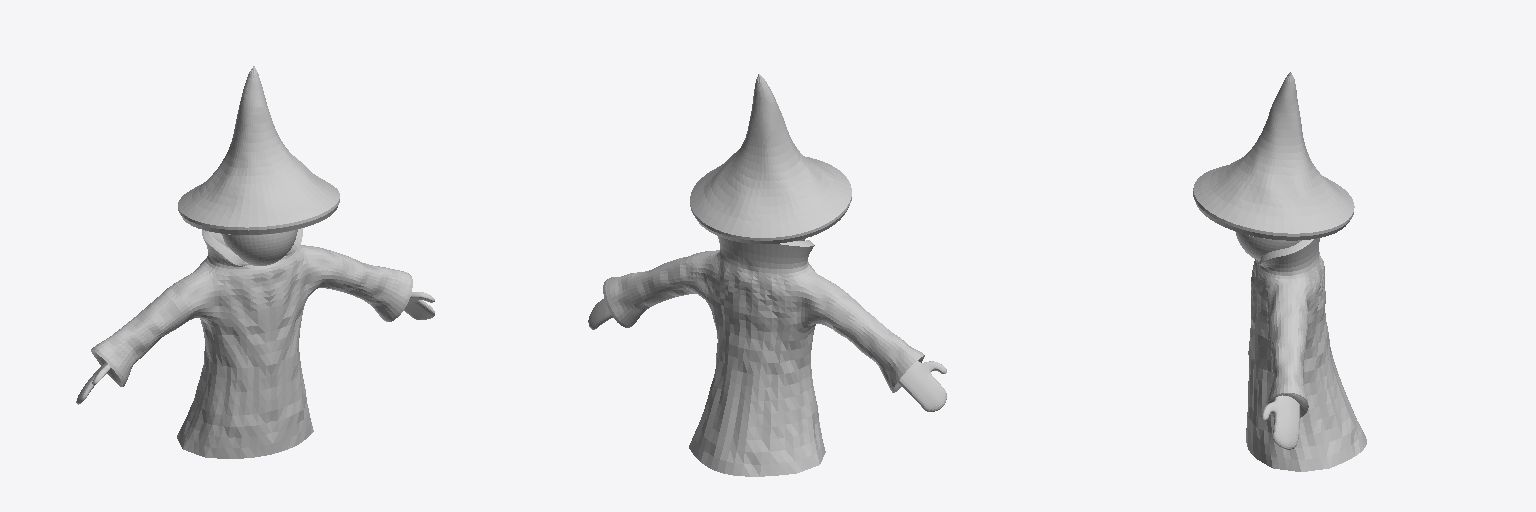
The model's file is WizardSmoothSculptTexture.obj.
3 views of the same model, side by side, from view 1: azimuth 30°, elevation 25°; view 2: azimuth 150°, elevation 25°; view 3: azimuth 270°, elevation 25° (orthographic).
Visible parts, largest first — view 1: wizard_high; view 2: wizard_high; view 3: wizard_high.
Part boxes in pixels (x1,y1,x2,y2): wizard_high: (76,66,434,458); wizard_high: (588,74,946,476); wizard_high: (1193,72,1366,471).
Size of the model in its own units: 7.11 by 7.11 by 3.02.